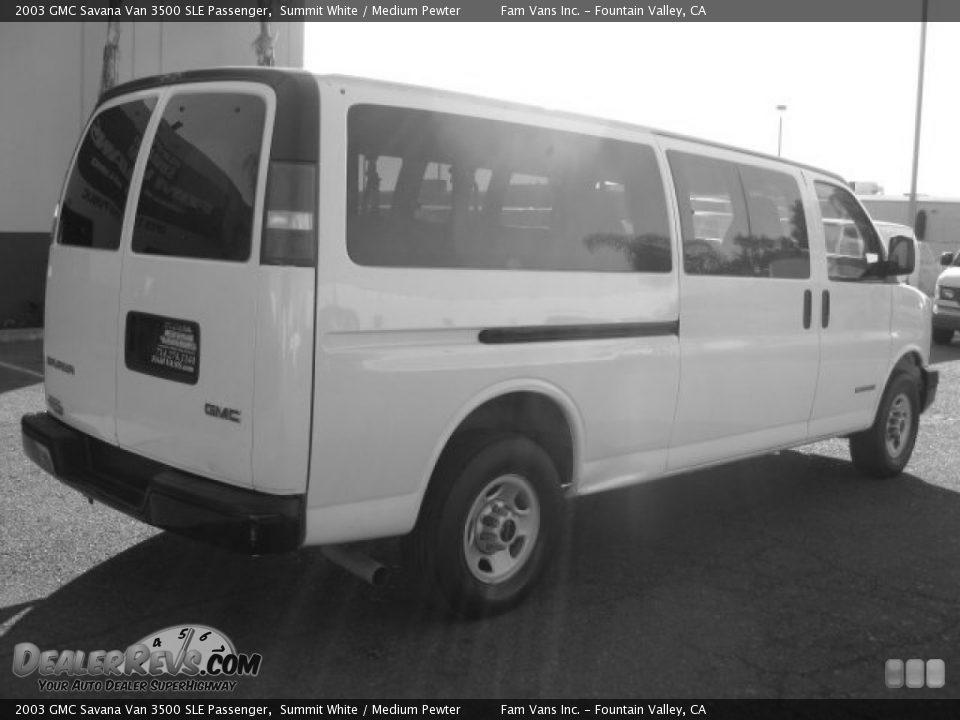car: (17, 64, 941, 620)
